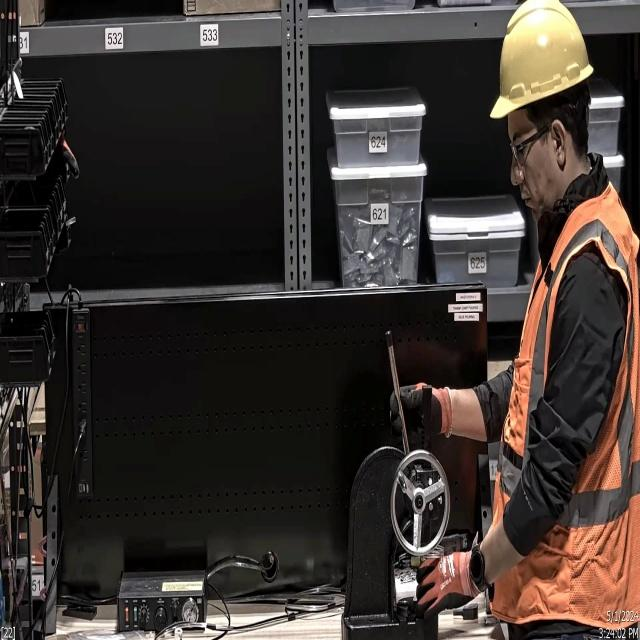construction-gloves: (411, 546, 480, 626), (390, 382, 454, 444)
